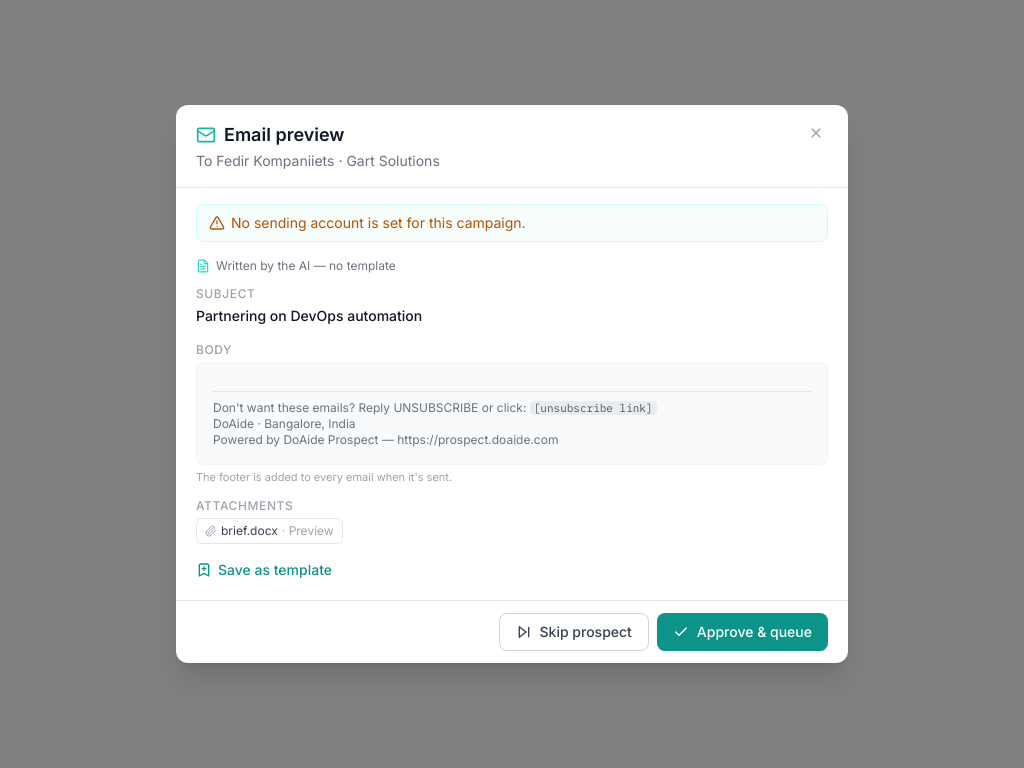
Test case: EmailPreviewModal › offers a download for a file it cannot preview
Click the button "Preview brief.docx" at (269,531), box 196,518 -> 343,544
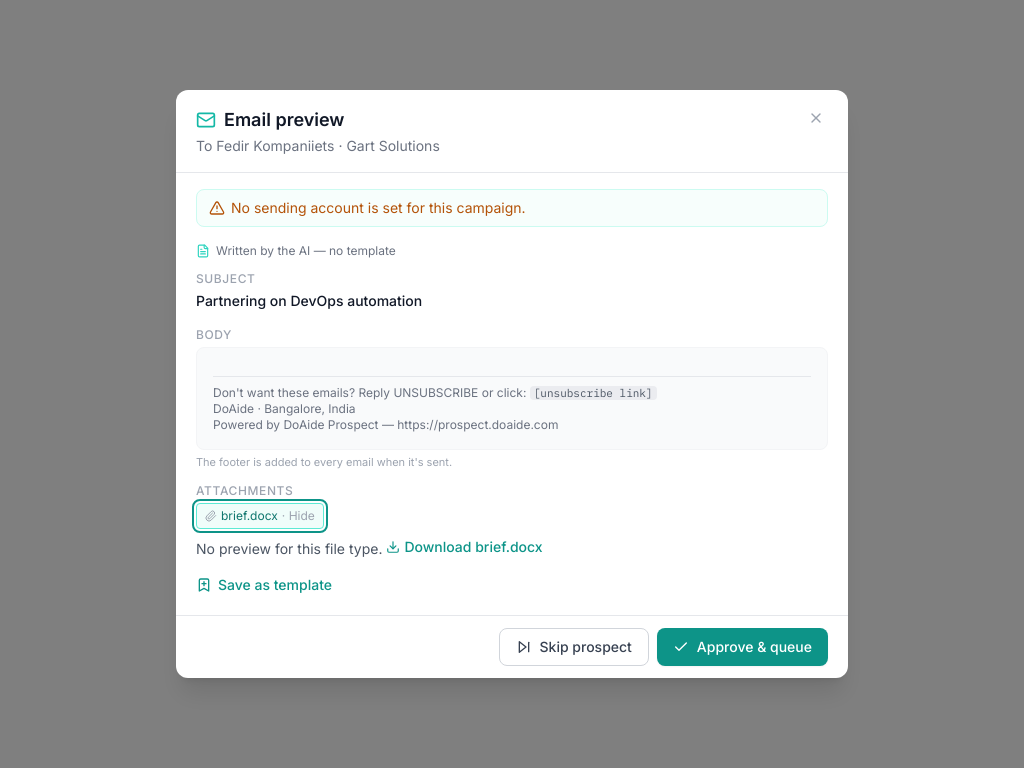
Result: the text "No preview for this file type. Download brief.docx" is shown at 196,538 -> 543,557
